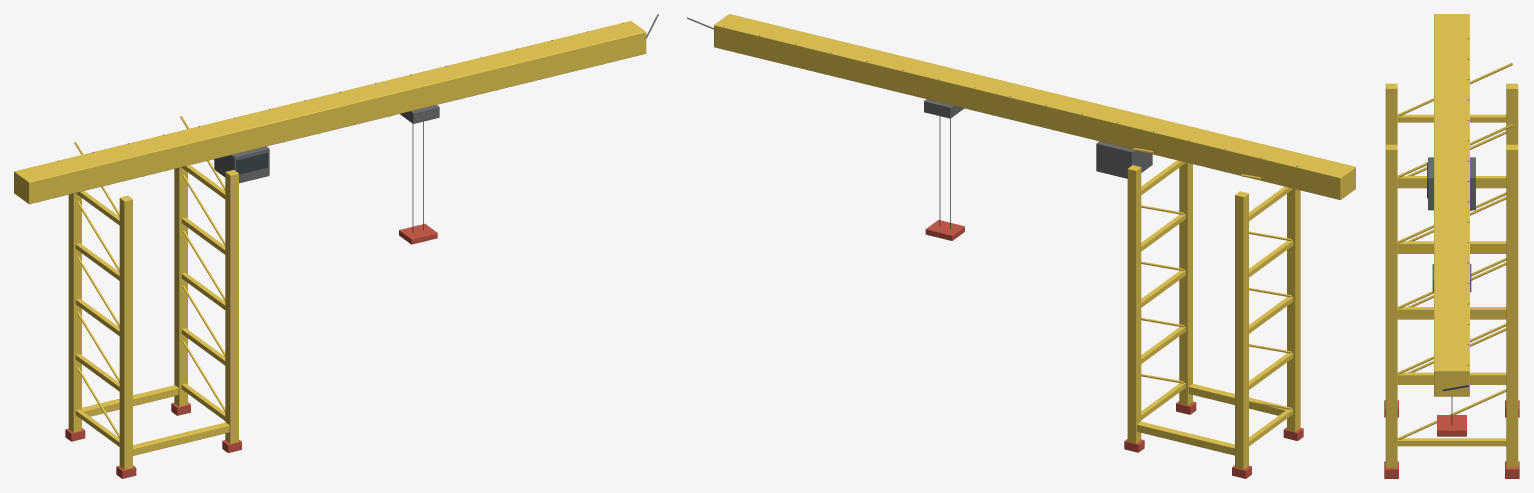
File: crane.glb
3 views of the same model, side by side, from view 1: azimuth 30°, elevation 25°; view 2: azimuth 150°, elevation 25°; view 3: azimuth 270°, elevation 25° (orthographic). The views are drawn at different scales.
Visible parts, largest first — view 1: crane; view 2: crane; view 3: crane.
Part boxes in pixels (x1,y1,x2,y2): crane: (14, 14, 658, 478); crane: (687, 14, 1355, 478); crane: (1384, 14, 1519, 478).
Size of the model in its own units: 73.05 by 32.47 by 11.2.
